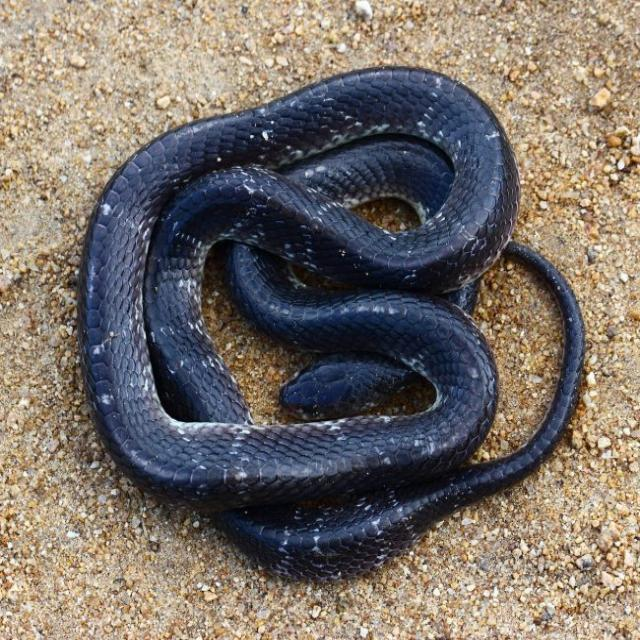Snake: (77, 62, 585, 582)
